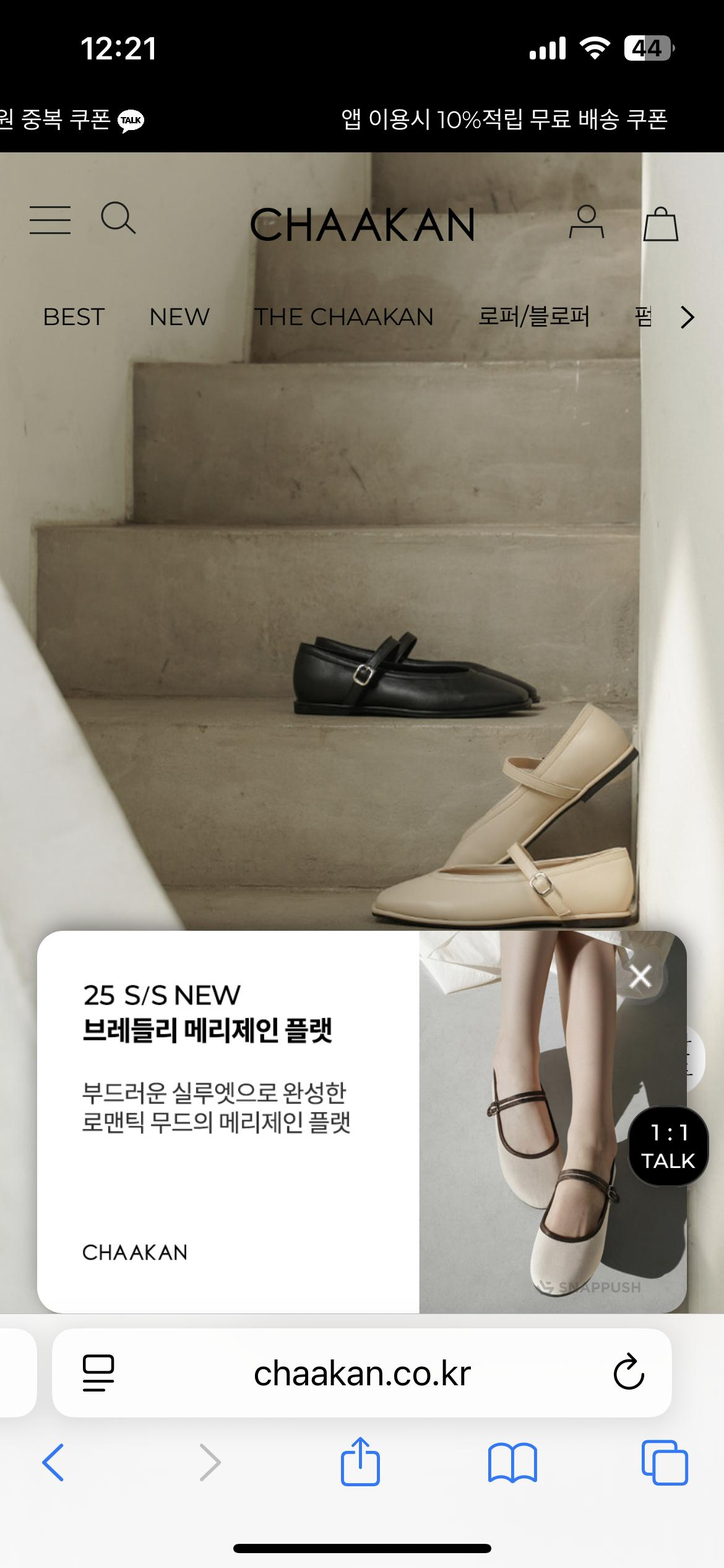button: (241, 291, 456, 347), (468, 293, 602, 343), (629, 200, 691, 262), (557, 192, 613, 260), (37, 295, 116, 339), (140, 293, 215, 339), (23, 196, 76, 256), (95, 198, 144, 250), (619, 299, 668, 343)
popup: (39, 931, 691, 1321)
